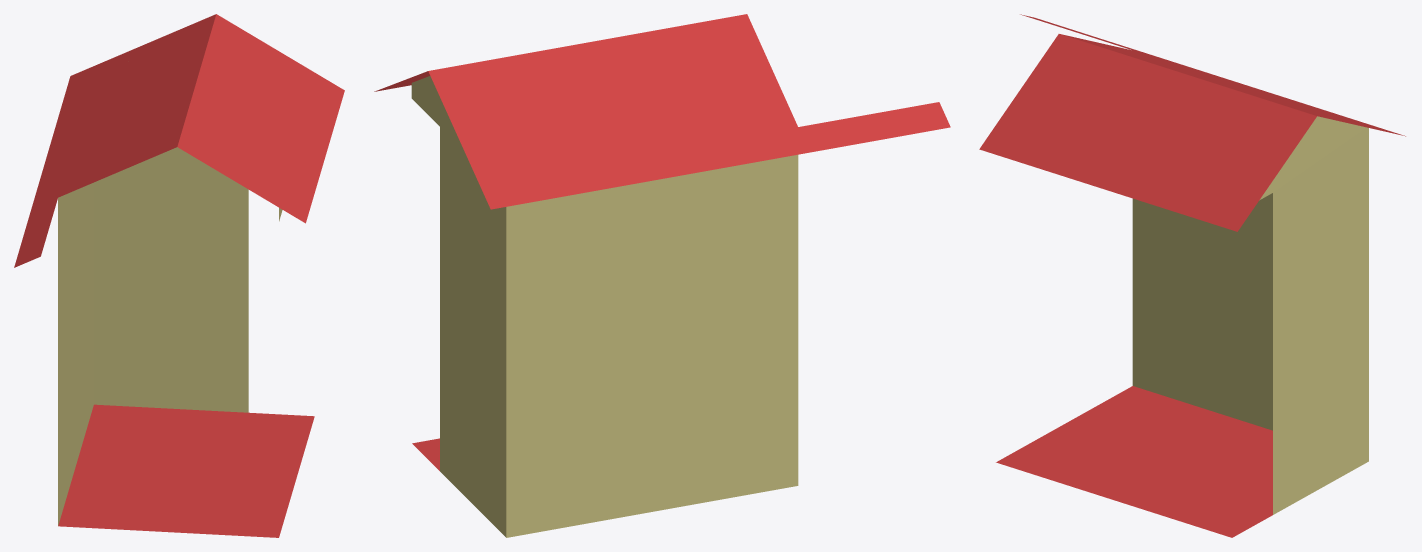
3 renders of one model, left to right at view 1: azimuth 30°, elevation 25°; view 2: azimuth 150°, elevation 25°; view 3: azimuth 270°, elevation 25°, orthographic. The views are drawn at different scales.
Size of the model in its own units: 9.18 by 7.76 by 7.86.
